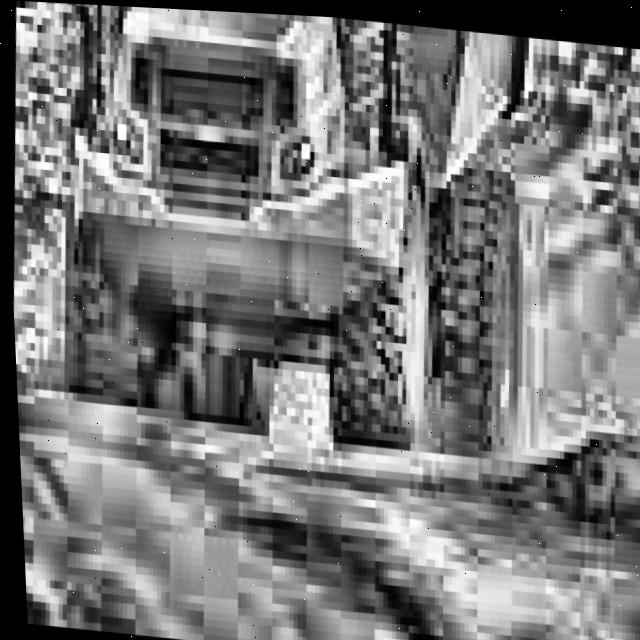dump_truck: (0, 0, 565, 482)
